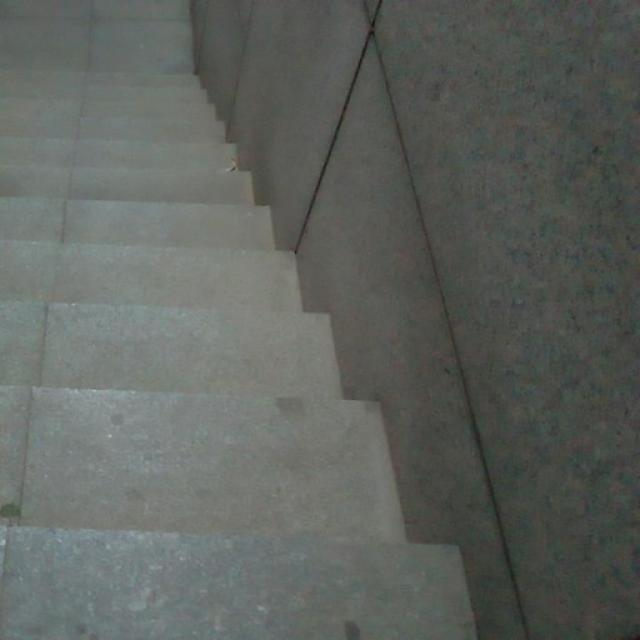stair: (0, 41, 285, 597)
